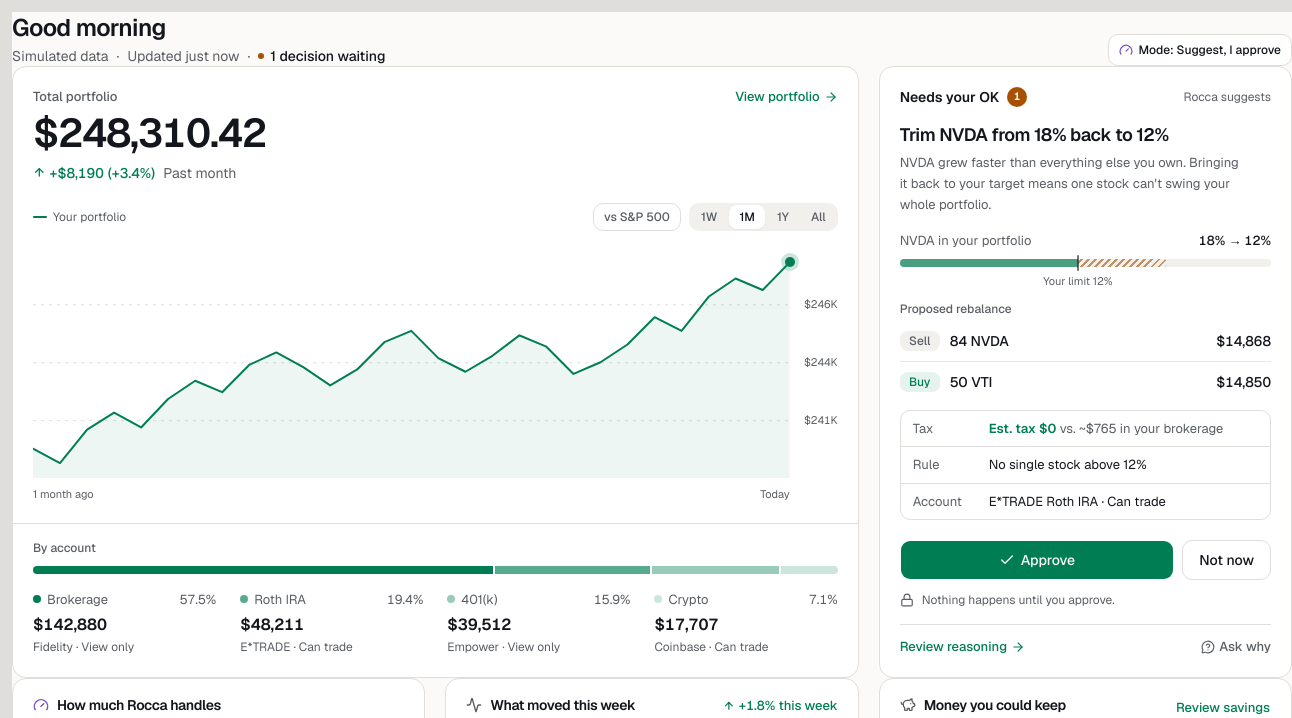
Test: Overview › compares the portfolio with the S&P 500
This screenshot has width=1292, height=718.
Step 1. Click the button "vs S&P 500" → (637, 216), box x1=593 y1=202 x2=681 y2=230
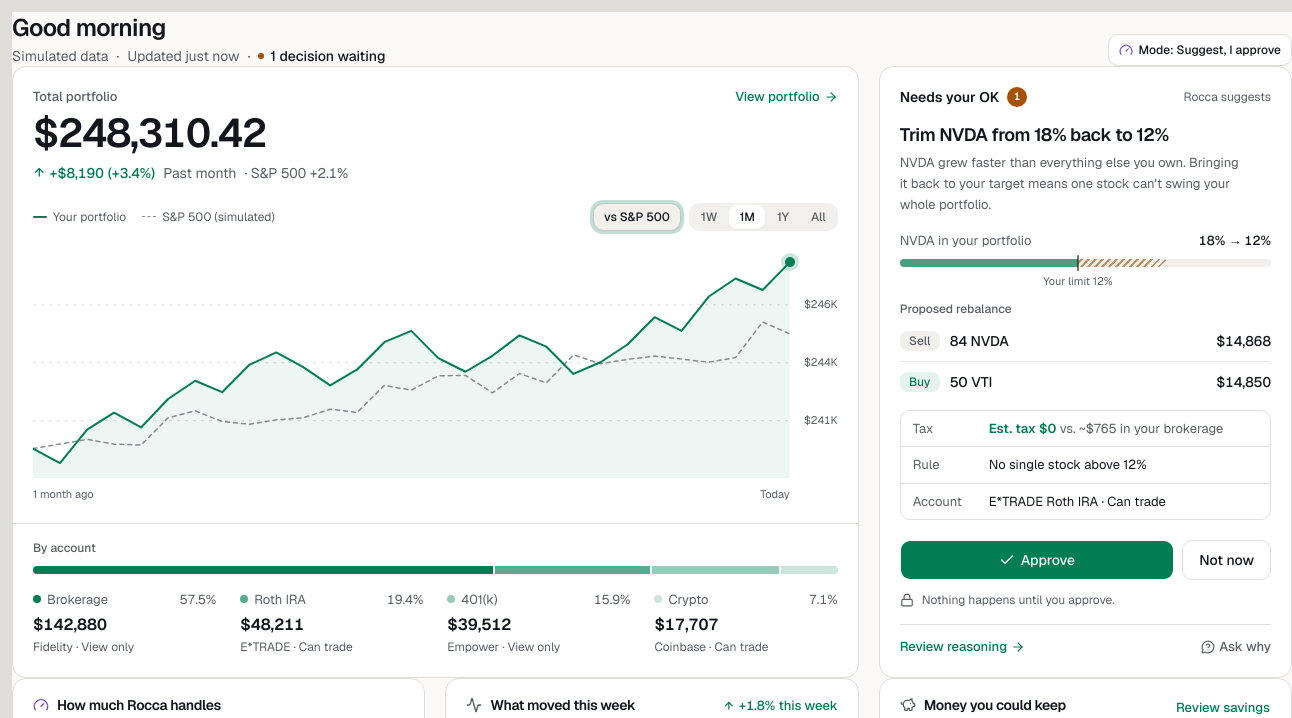
Expected: the picture named "S&P 500: +2.1%" is shown, x1=33 y1=246 x2=790 y2=478
Expected: the text "S&P 500 (simulated)" is shown, x1=162 y1=208 x2=275 y2=224
